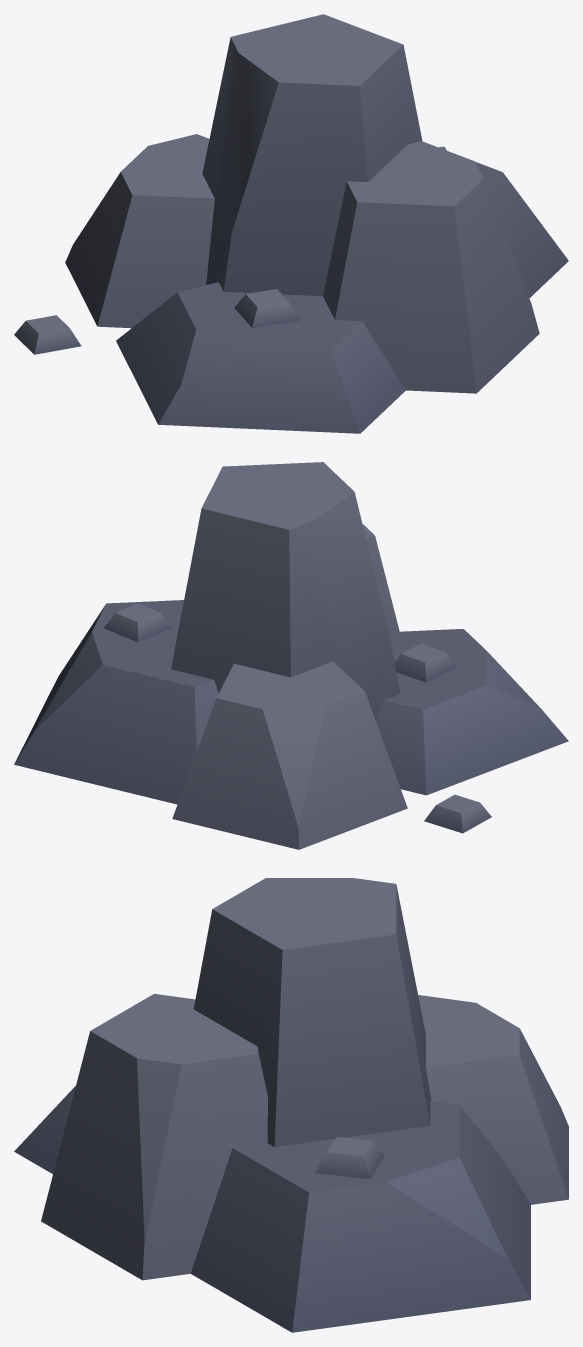
Rendered from rock_b.fbx.
The picture shows the model from 3 angles, top to bottom: view 1: azimuth 30°, elevation 25°; view 2: azimuth 150°, elevation 25°; view 3: azimuth 270°, elevation 25°; orthographic projection. The views are drawn at different scales.
Visible parts, largest first — view 1: rock-b; view 2: rock-b; view 3: rock-b.
Boxes of the visible parts, bbox=[...] form: rock-b: bbox=[14, 14, 568, 433]; rock-b: bbox=[14, 462, 568, 849]; rock-b: bbox=[14, 878, 568, 1332].
Bounding box in the file's own units: 2.6 × 1.3 × 2.26.
